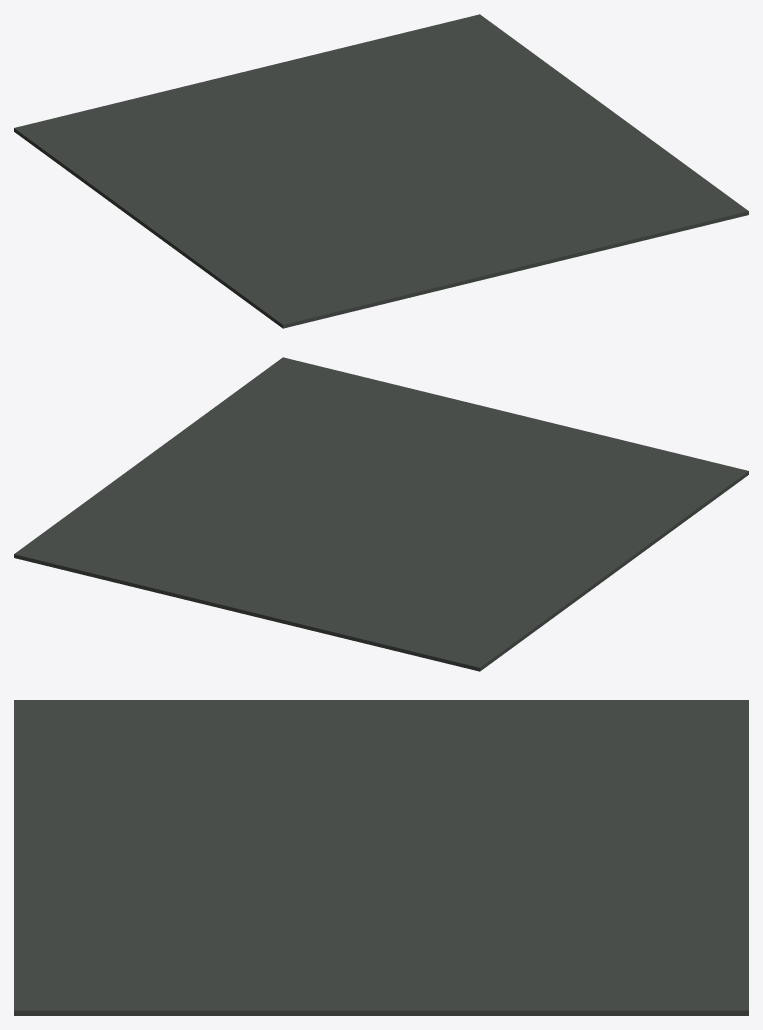
The model's file is road.008.obj.
3 renders of one model, top to bottom at view 1: azimuth 30°, elevation 25°; view 2: azimuth 150°, elevation 25°; view 3: azimuth 270°, elevation 25°, orthographic. The views are drawn at different scales.
Visible parts, largest first — view 1: Road.008; view 2: Road.008; view 3: Road.008.
Part boxes in pixels (<box>): Road.008: <box>14,14,748,328</box>; Road.008: <box>14,357,748,671</box>; Road.008: <box>14,700,748,1015</box>.
Bounding box in the file's own units: 2 × 0.0155 × 2.
Materials: 1 (1 with a texture image).
